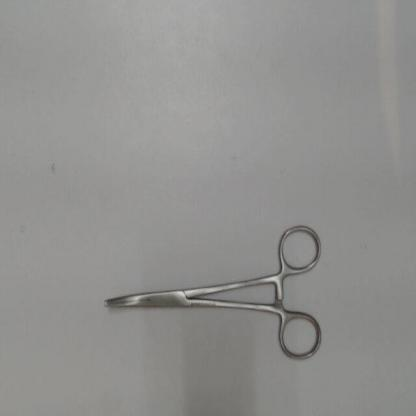Crile Artery Forceps: (92, 215, 329, 372)
